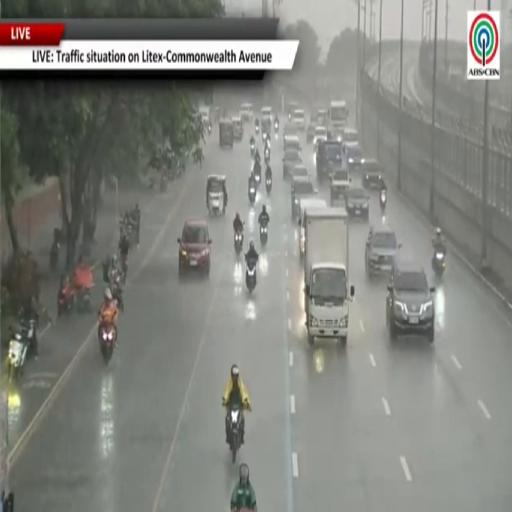bus: (329, 101, 348, 127)
car: (386, 259, 434, 343), (365, 224, 401, 278), (178, 219, 211, 275), (298, 197, 326, 259), (291, 176, 317, 220), (316, 140, 342, 182), (330, 168, 351, 205), (345, 188, 369, 219), (361, 159, 382, 188), (283, 150, 302, 179), (345, 144, 365, 169), (313, 126, 327, 150), (231, 116, 244, 141), (343, 128, 359, 147), (292, 109, 305, 132), (284, 135, 301, 152), (240, 103, 253, 122), (291, 164, 308, 178), (283, 123, 297, 140), (287, 102, 299, 121), (330, 127, 344, 142), (317, 108, 328, 124), (261, 106, 272, 120), (307, 123, 315, 142)
motorcycle: (8, 318, 37, 382), (8, 333, 28, 382), (230, 405, 242, 462), (99, 324, 116, 363), (57, 282, 76, 316), (110, 274, 124, 312), (432, 249, 446, 278), (75, 287, 91, 312), (246, 261, 256, 293), (50, 240, 59, 271), (120, 254, 127, 284), (234, 232, 243, 254), (260, 222, 267, 246), (254, 163, 261, 186), (380, 189, 386, 214), (249, 185, 255, 204), (266, 176, 272, 194), (264, 147, 270, 164), (161, 176, 167, 193), (262, 131, 268, 143), (255, 172, 260, 186), (251, 143, 255, 157), (274, 122, 278, 133), (255, 125, 259, 134), (208, 124, 211, 134), (288, 112, 291, 121)
truck: (304, 207, 354, 346)
